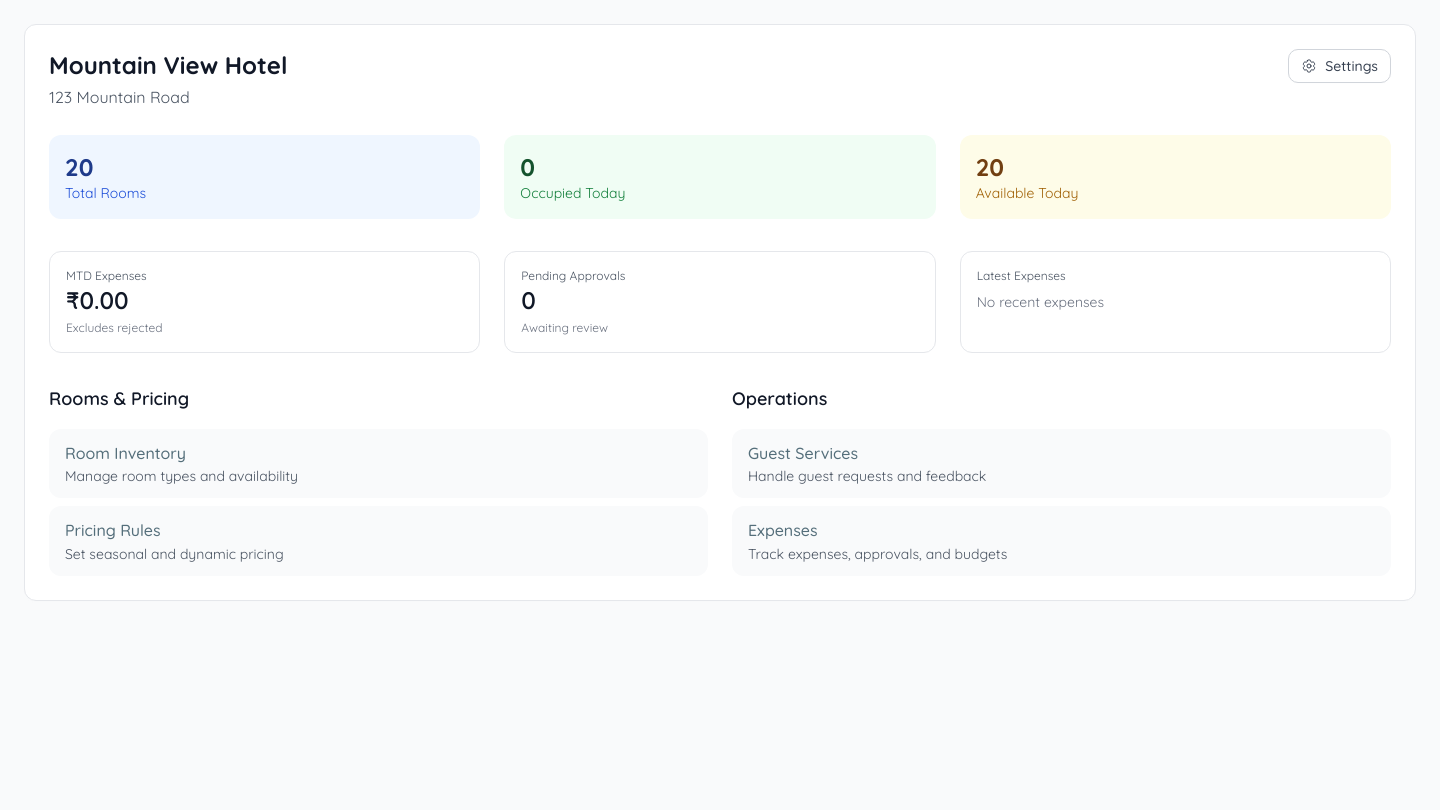
Property Management Integration › PropertyDashboard Component › should navigate into a management section and back
The image size is (1440, 810).
Click the text "Room Inventory" at point(126, 453), box [65,443,186,463]
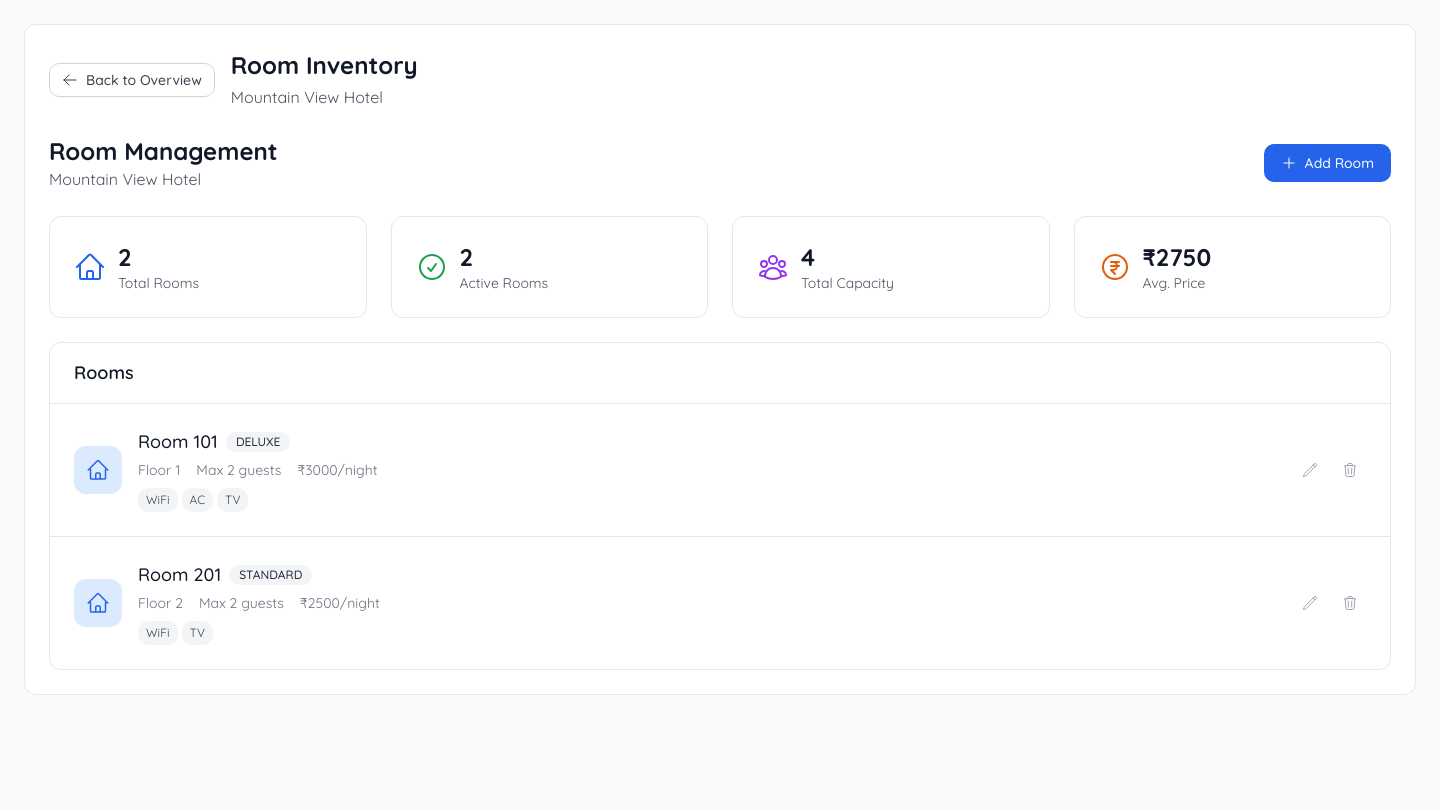
Result: the button "Back to Overview" is shown at [49,63,215,97]
